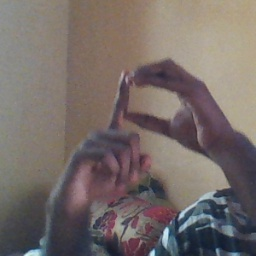P: (76, 55, 220, 190)
